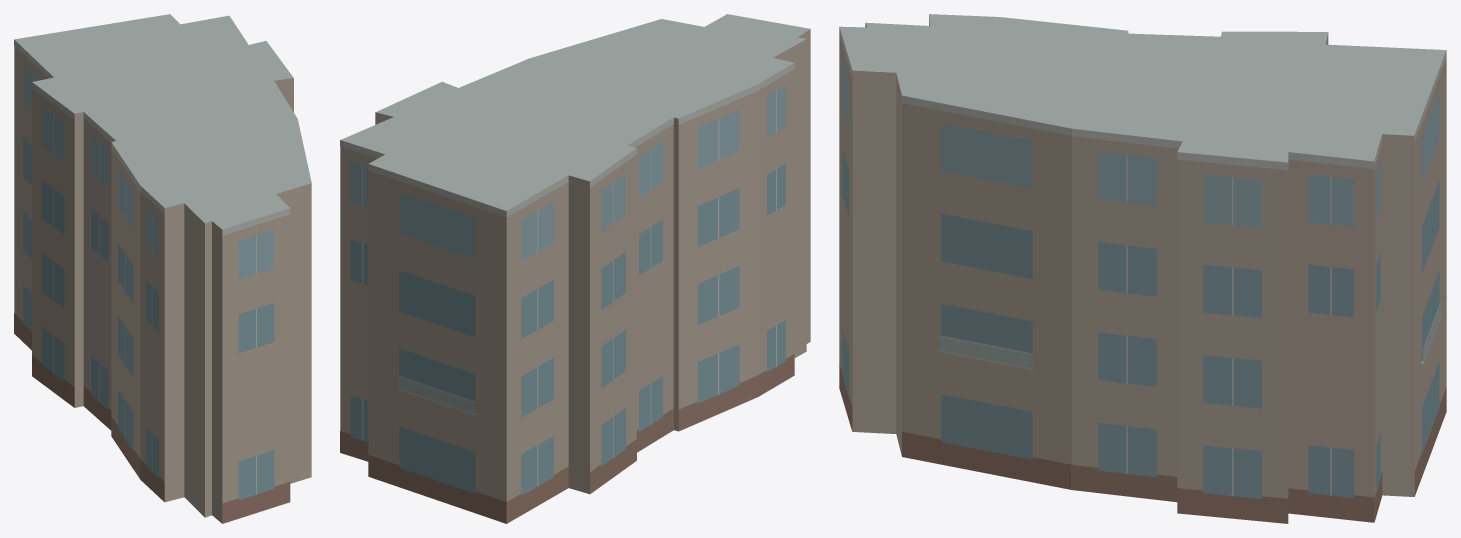
File: survey-upis-32649523.glb
3 renders of one model, left to right at view 1: azimuth 30°, elevation 25°; view 2: azimuth 150°, elevation 25°; view 3: azimuth 270°, elevation 25°, orthographic. The views are drawn at different scales.
Visible parts, largest first — view 1: survey-upis-32649523.tmp; view 2: survey-upis-32649523.tmp; view 3: survey-upis-32649523.tmp.
Boxes of the visible parts, x1,y1,x2,y2 form: survey-upis-32649523.tmp: (14, 14, 311, 523); survey-upis-32649523.tmp: (340, 14, 810, 523); survey-upis-32649523.tmp: (839, 14, 1446, 523).
Size of the model in its own units: 10.29 by 11.66 by 17.77.
